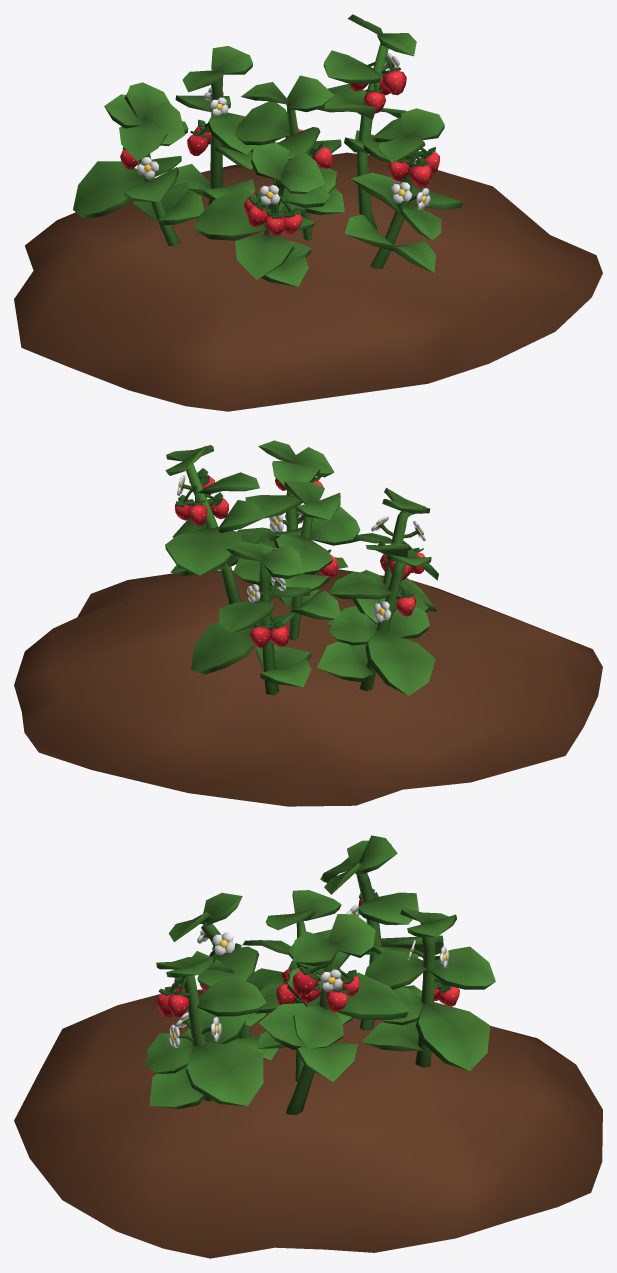
File: SM_PlantSoil_Strawberry_Lv3.fbx
The picture shows the model from 3 angles, top to bottom: view 1: azimuth 30°, elevation 25°; view 2: azimuth 150°, elevation 25°; view 3: azimuth 270°, elevation 25°; orthographic projection. The views are drawn at different scales.
Parts seen in each view (by area): view 1: SM_PlantSoil_Strawberry_Lv3; view 2: SM_PlantSoil_Strawberry_Lv3; view 3: SM_PlantSoil_Strawberry_Lv3.
Boxes of the visible parts, x1,y1,x2,y2 form: SM_PlantSoil_Strawberry_Lv3: [14, 14, 602, 411]; SM_PlantSoil_Strawberry_Lv3: [14, 440, 602, 806]; SM_PlantSoil_Strawberry_Lv3: [14, 835, 602, 1258].
Size of the model in its own units: 118 by 55.11 by 106.
